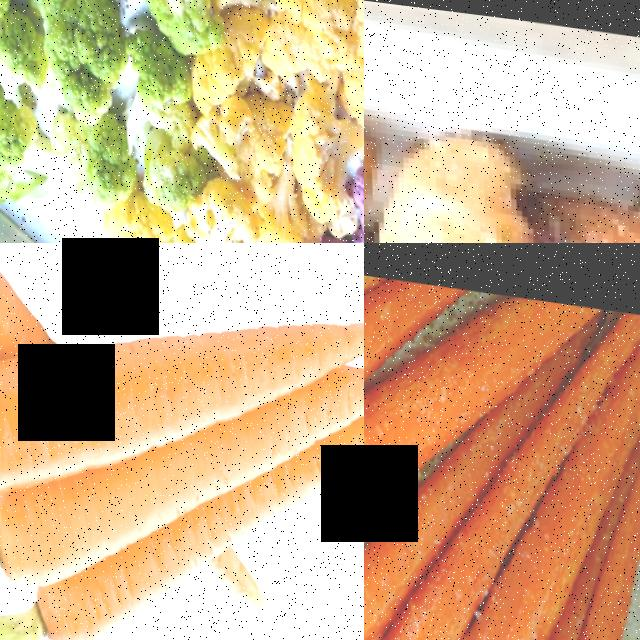carrot: (0, 279, 308, 460), (0, 422, 309, 565), (49, 557, 269, 640)
